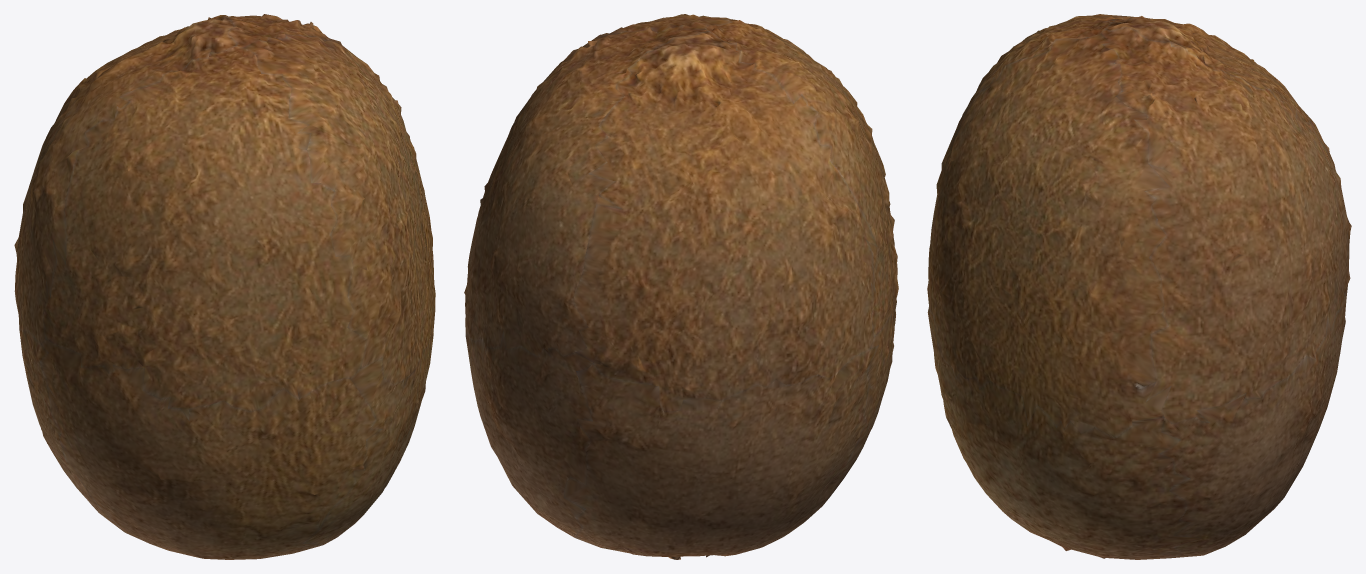
File: food_kiwi_01_8k.obj
3 views of the same model, side by side, from view 1: azimuth 30°, elevation 25°; view 2: azimuth 150°, elevation 25°; view 3: azimuth 270°, elevation 25° (orthographic).
Visible parts, largest first — view 1: food_kiwi_01; view 2: food_kiwi_01; view 3: food_kiwi_01.
Boxes of the visible parts, x1=… form: food_kiwi_01: x1=14, y1=14, x2=435, y2=559; food_kiwi_01: x1=464, y1=14, x2=898, y2=559; food_kiwi_01: x1=927, y1=14, x2=1351, y2=559.
Size of the model in its own units: 0.0695 by 0.0901 by 0.0686.
